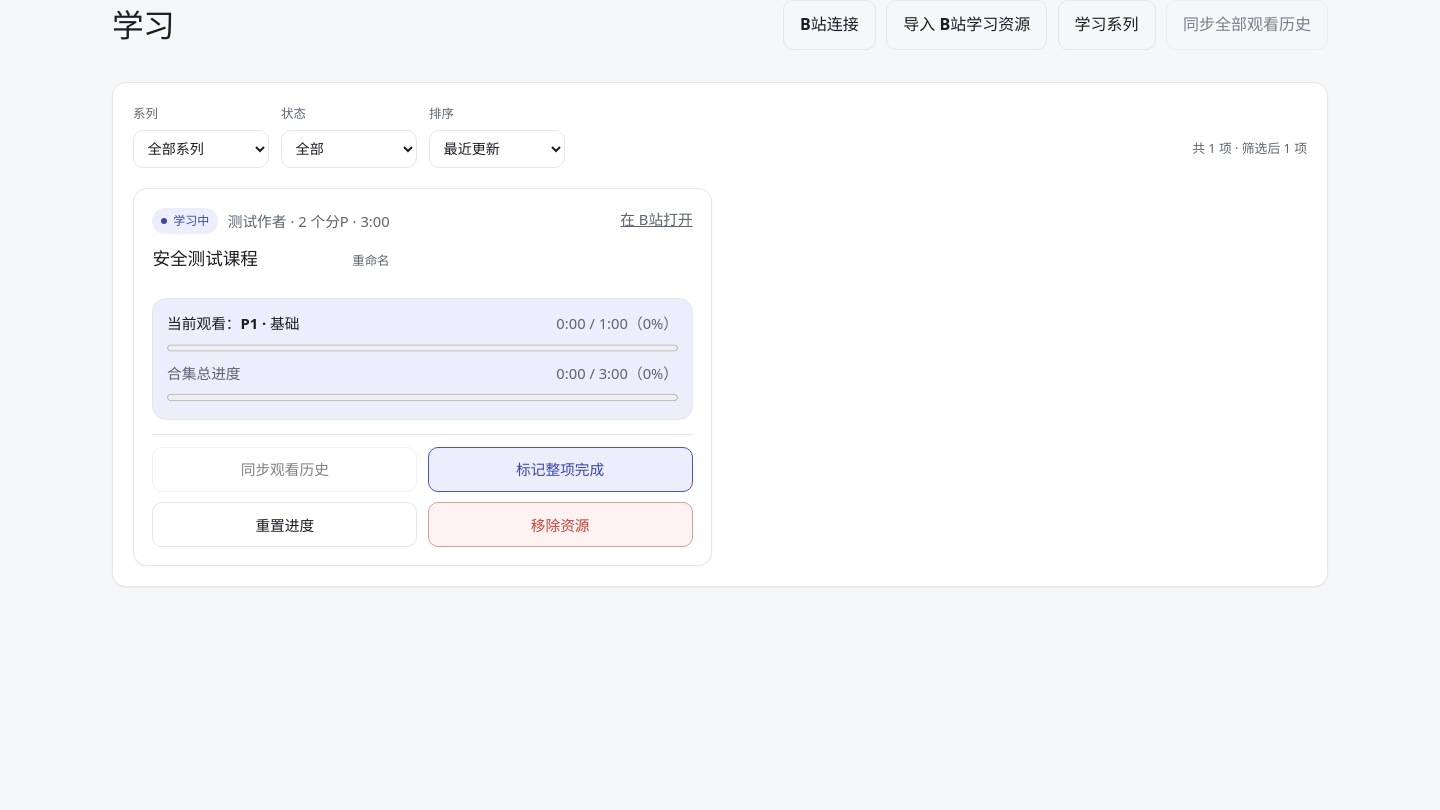
Test: learning center › completes, resets and deletes with explicit confirmations
Expected: the heading "安全测试课程" is shown, [152,246,258,270]
Click the button "标记整项完成".
click(560, 469)  # box [428,447,693,492]
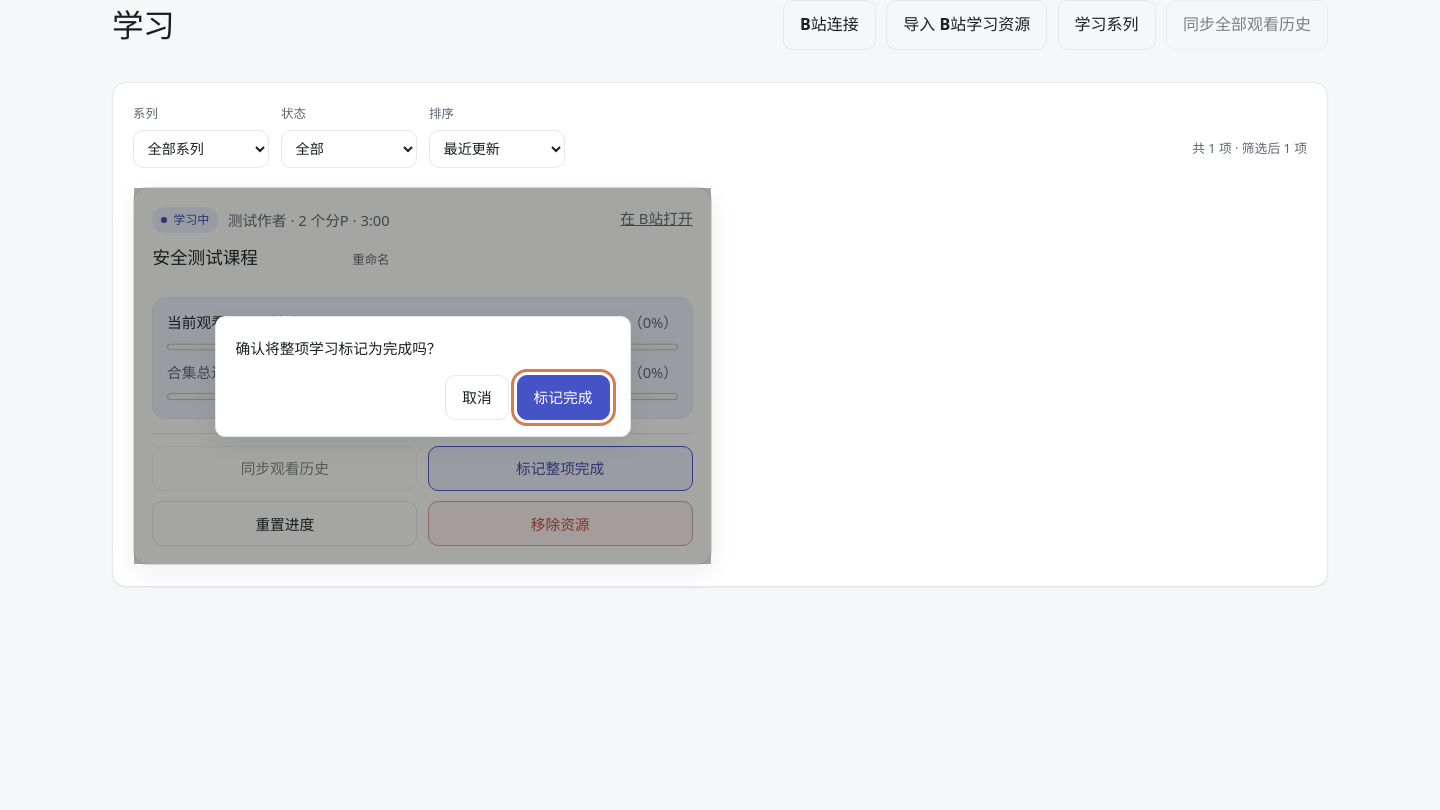
Click the button "标记完成".
click(563, 397)  # box [517,375,610,420]
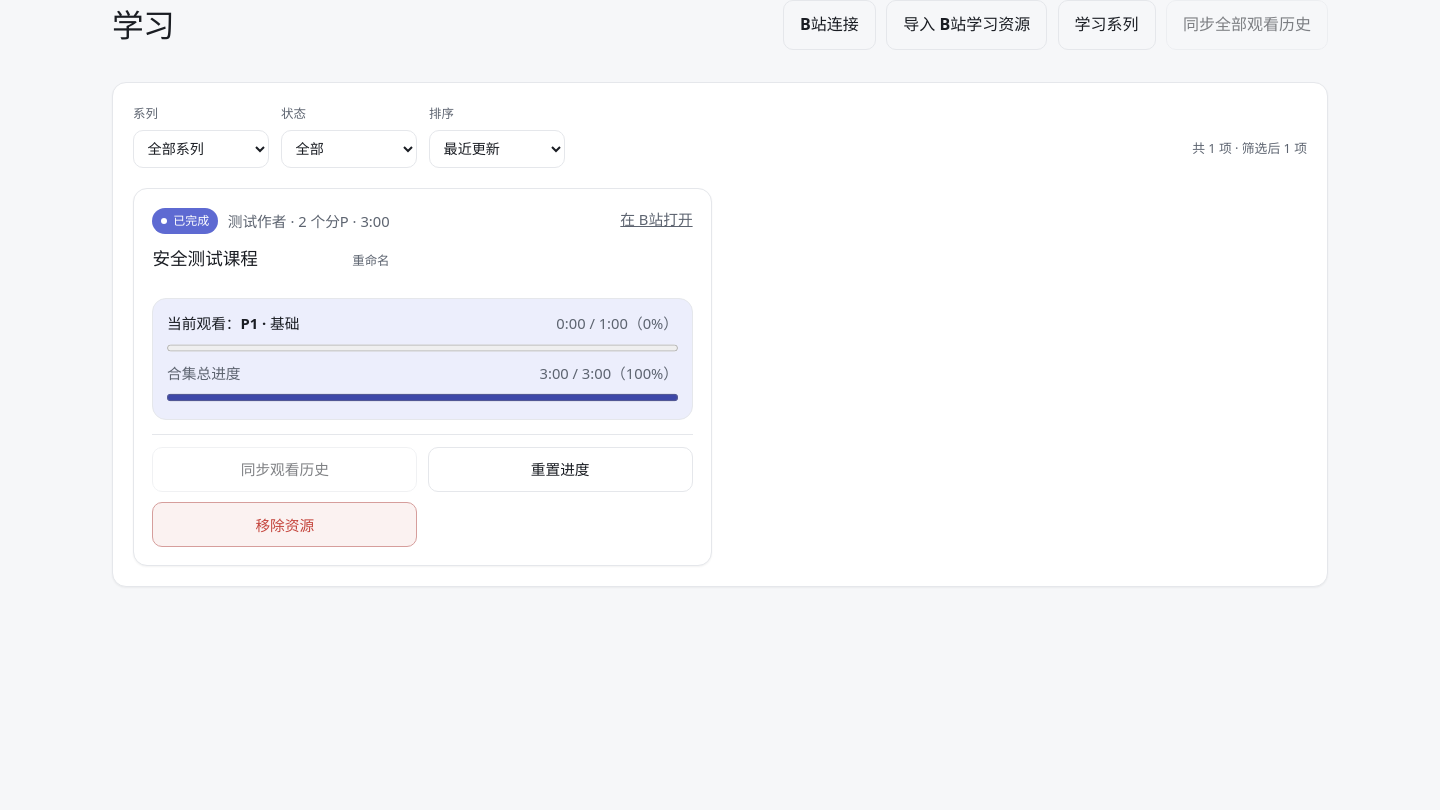
Click the button "重置进度".
click(560, 469)  # box [428,447,693,492]
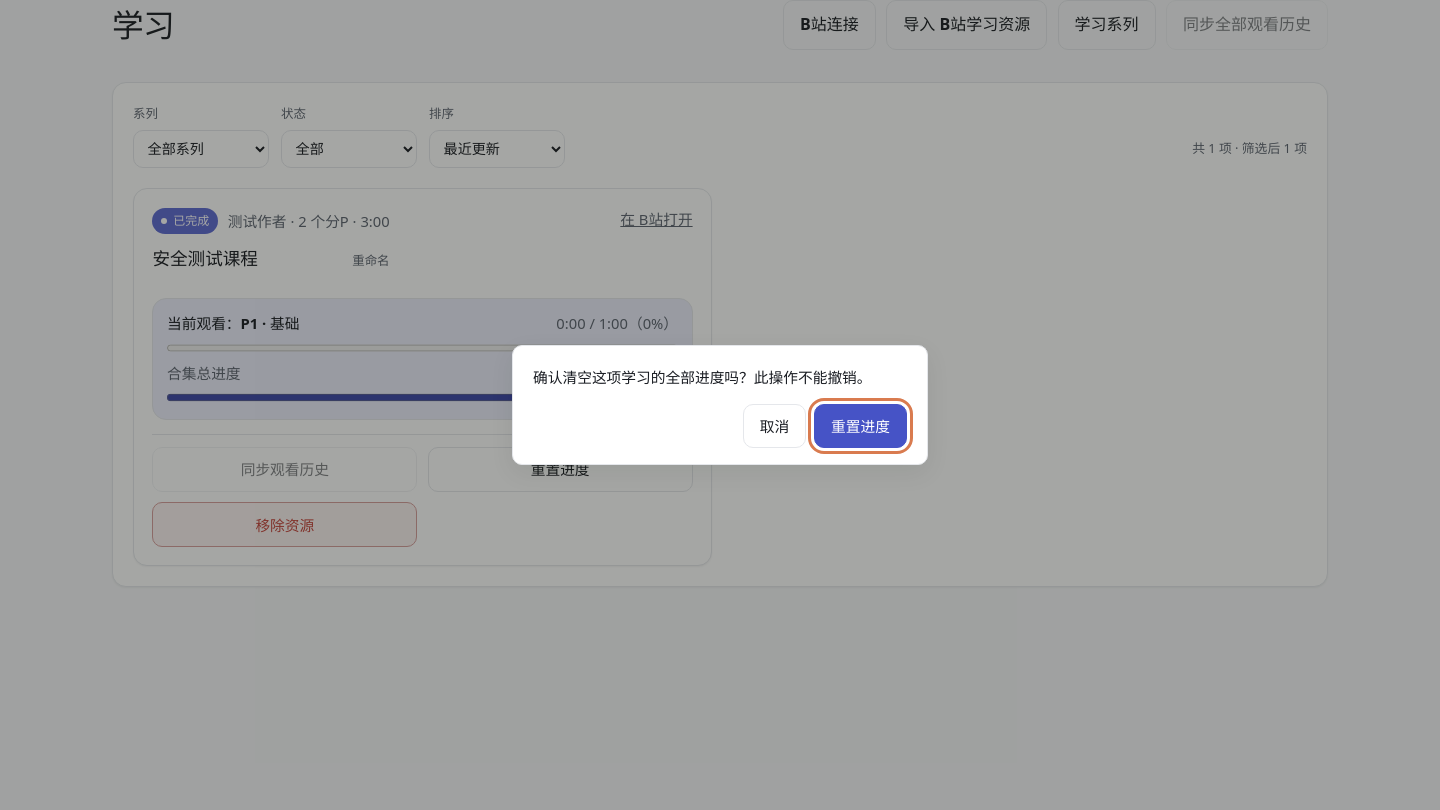
Click the button "重置进度".
click(861, 426)  # box [814,404,907,448]
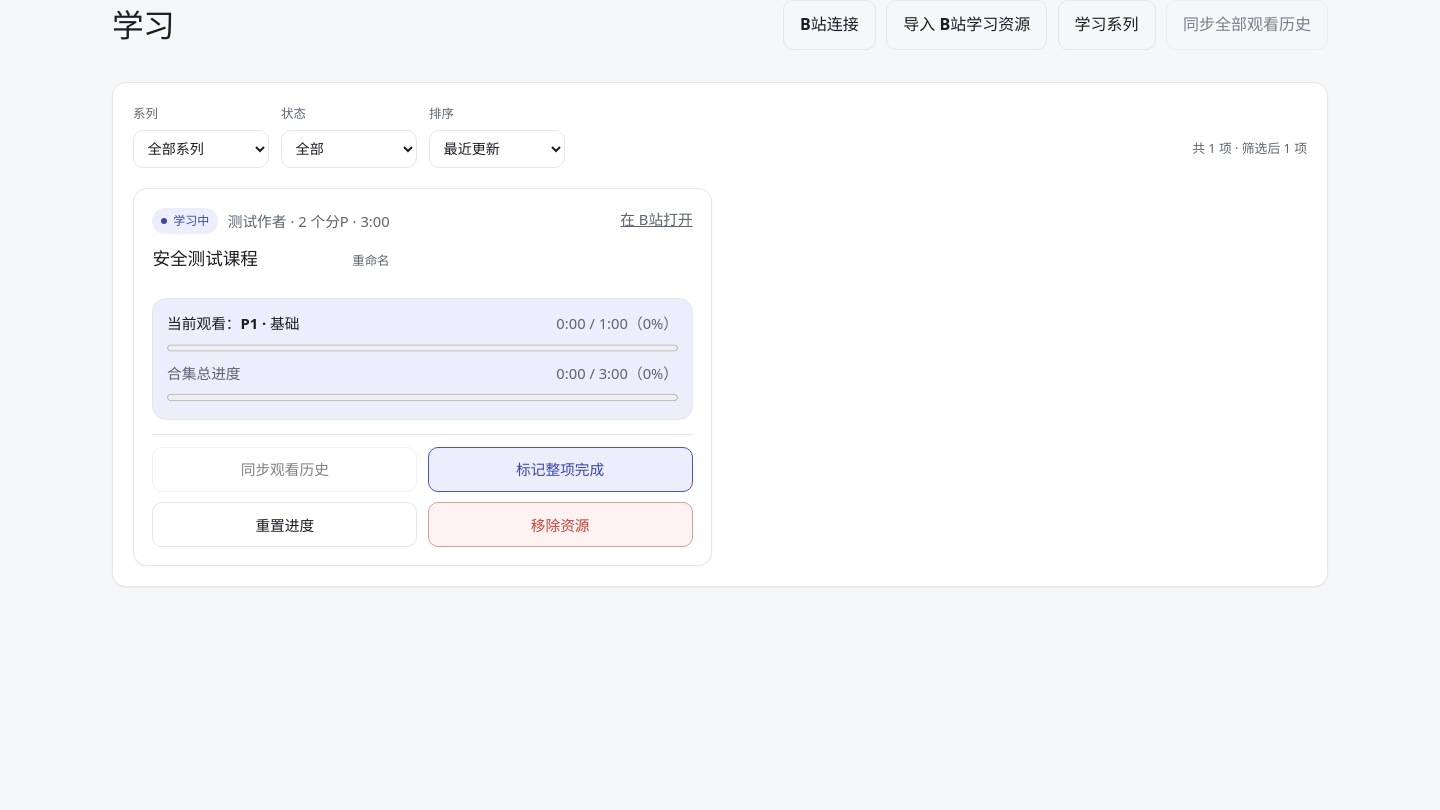
Click the button "移除资源".
click(560, 525)  # box [428,502,693,547]
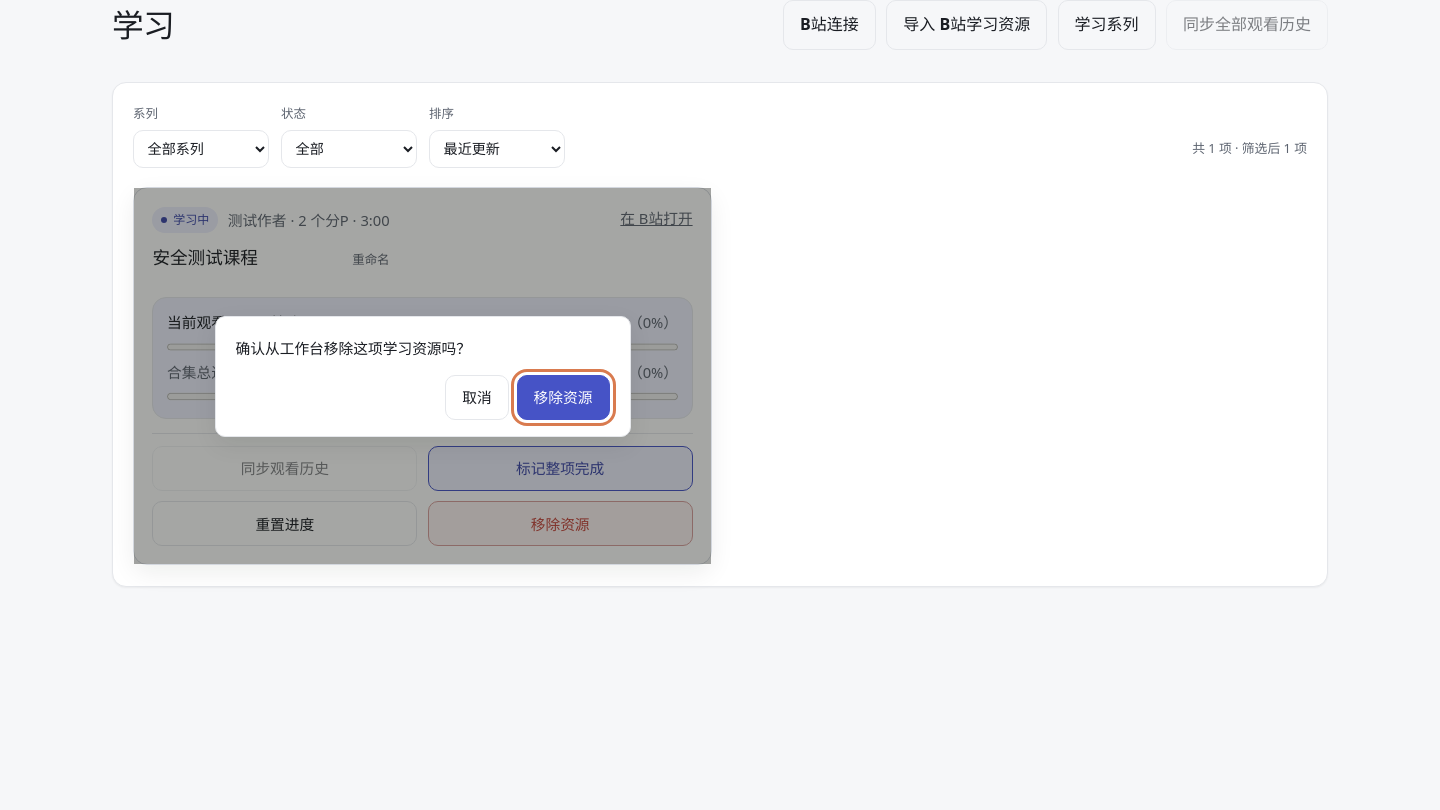
Click the button "移除资源".
click(563, 397)  # box [517,375,610,420]
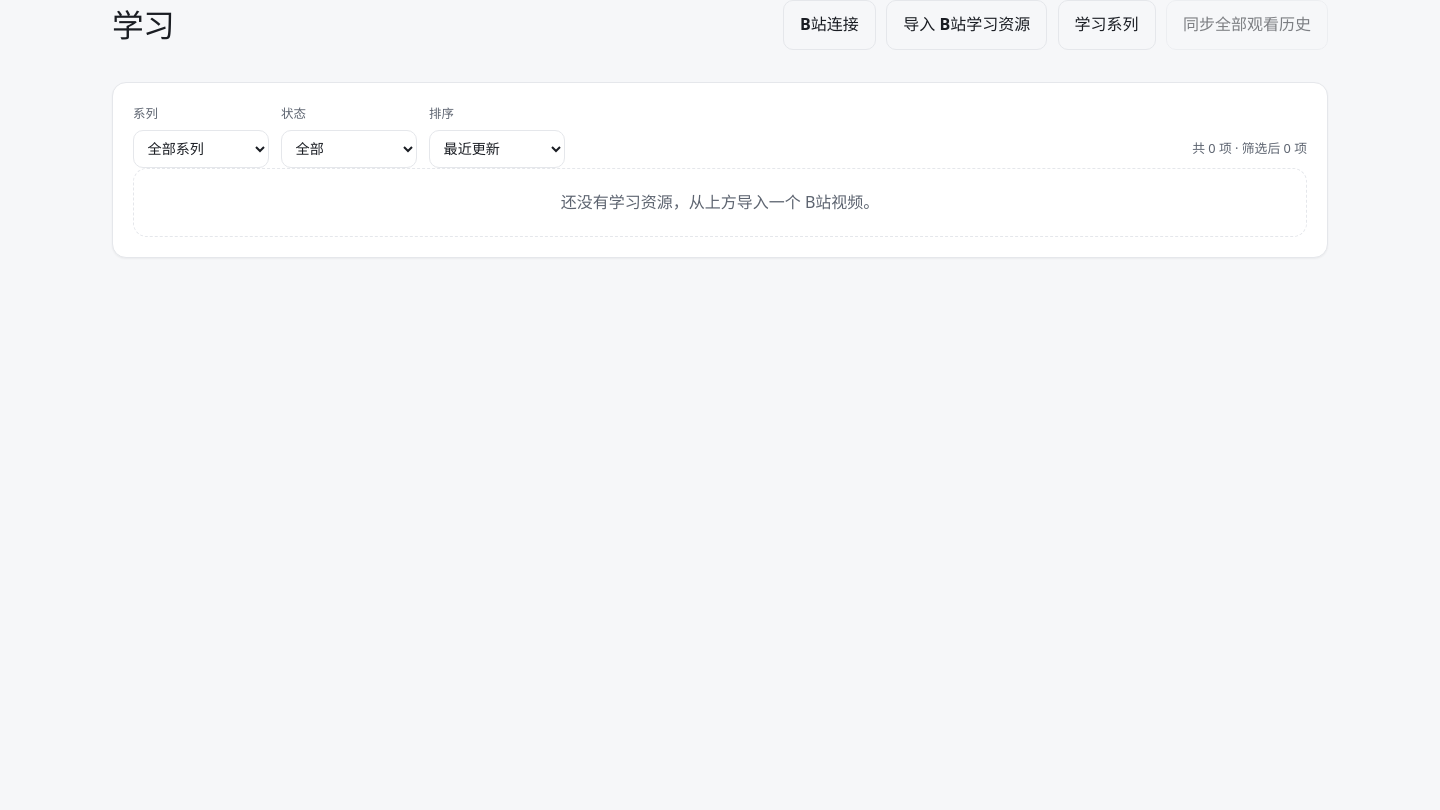
Result: the text "还没有学习资源，从上方导入一个 B站视频。" is shown at [133,168,1307,237]
